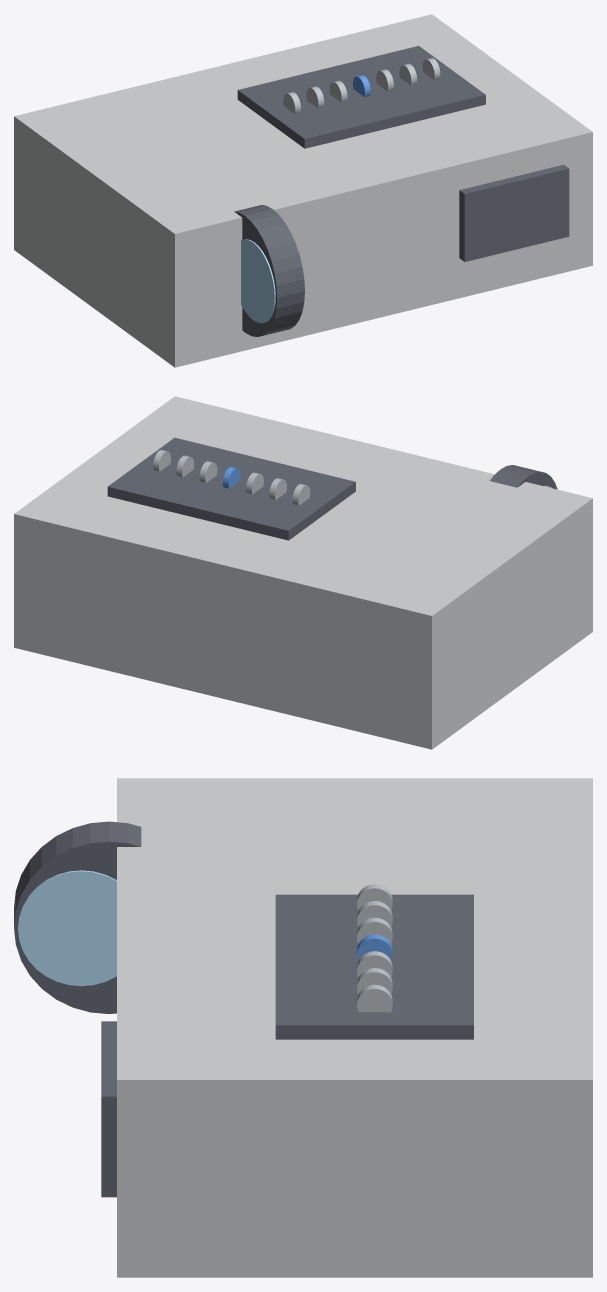
The model's file is asset_light.glb.
3 renders of one model, top to bottom at view 1: azimuth 30°, elevation 25°; view 2: azimuth 150°, elevation 25°; view 3: azimuth 270°, elevation 25°, orthographic. The views are drawn at different scales.
Parts seen in each view (by area): view 1: body, panel, vent, lens_outer, lens_glass; view 2: body, panel, lens_outer; view 3: body, panel, lens_glass, lens_outer, vent, top_btn_6.
Part boxes in pixels (left/top/right/bottom): body: left=14, top=14, right=592, bottom=367; panel: left=237, top=46, right=485, bottom=148; vent: left=459, top=164, right=569, bottom=261; lens_outer: left=234, top=205, right=304, bottom=336; lens_glass: left=241, top=239, right=275, bottom=323; body: left=14, top=396, right=592, bottom=749; panel: left=107, top=437, right=355, bottom=540; lens_outer: left=490, top=465, right=557, bottom=489; body: left=117, top=778, right=592, bottom=1277; panel: left=275, top=894, right=473, bottom=1039; lens_glass: left=18, top=870, right=116, bottom=986; lens_outer: left=14, top=821, right=141, bottom=1013; vent: left=101, top=1021, right=116, bottom=1197; top_btn_6: left=357, top=984, right=392, bottom=1012.
Bounding box in the file's own units: 1.8 × 0.66 × 1.46.
